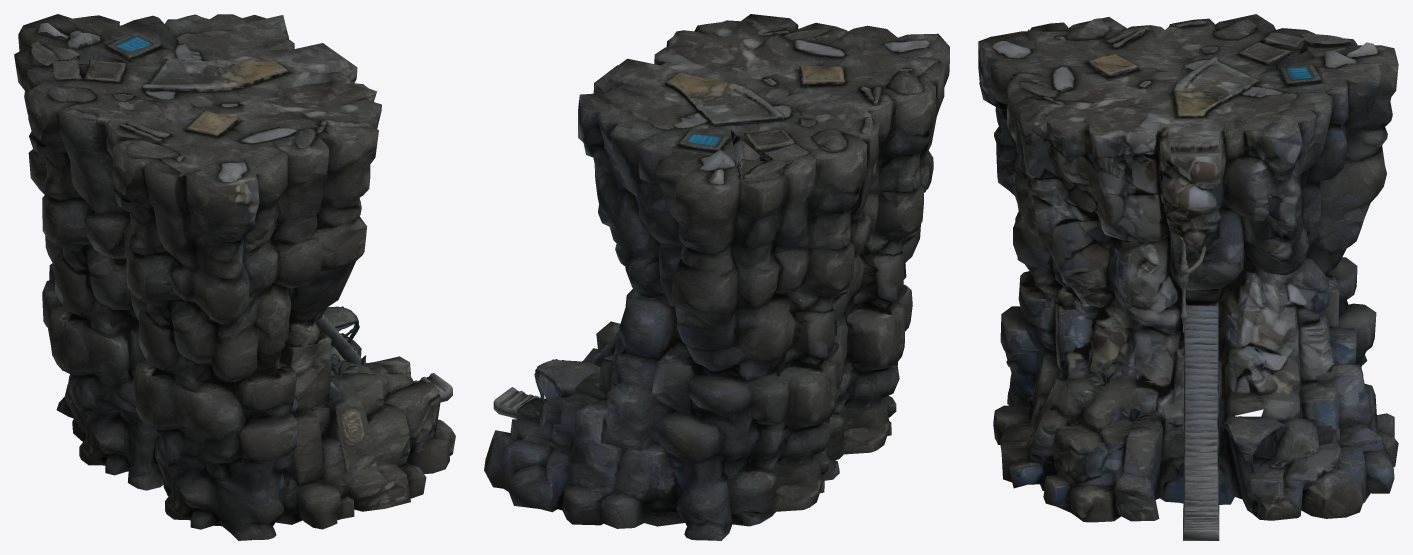
File: VAL_Capital_Environment_Cliff_DragonTower.glb
3 views of the same model, side by side, from view 1: azimuth 30°, elevation 25°; view 2: azimuth 150°, elevation 25°; view 3: azimuth 270°, elevation 25° (orthographic). The views are drawn at different scales.
Parts seen in each view (by area): view 1: tripo_node_36d4ab29-10a8-40a7-ae3e-34dcb6dd20ca; view 2: tripo_node_36d4ab29-10a8-40a7-ae3e-34dcb6dd20ca; view 3: tripo_node_36d4ab29-10a8-40a7-ae3e-34dcb6dd20ca.
Part boxes in pixels (bbox=[...]): tripo_node_36d4ab29-10a8-40a7-ae3e-34dcb6dd20ca: bbox=[14, 14, 455, 540]; tripo_node_36d4ab29-10a8-40a7-ae3e-34dcb6dd20ca: bbox=[484, 14, 949, 540]; tripo_node_36d4ab29-10a8-40a7-ae3e-34dcb6dd20ca: bbox=[978, 14, 1398, 540].
Size of the model in its own units: 0.998 by 0.9492 by 0.998.
Materials: 1 (1 with a texture image).
